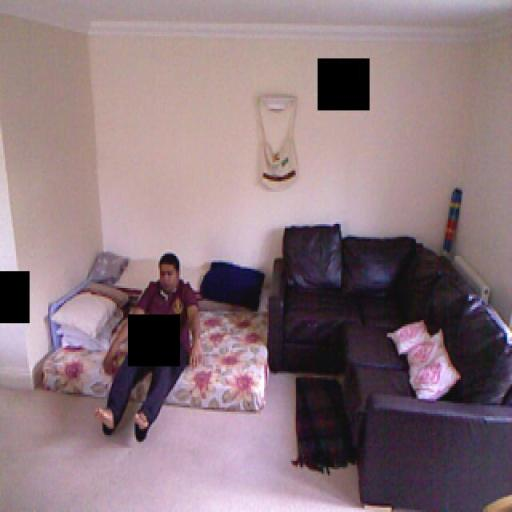Fall: (96, 252, 202, 442)
